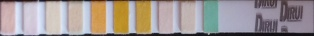color 1: (1, 2, 14, 34)
color 10: (203, 2, 217, 32)
color 2: (23, 3, 37, 34)
color 3: (46, 3, 60, 33)
color 4: (67, 3, 81, 33)
color 5: (92, 3, 105, 33)
color 6: (113, 3, 127, 32)
color 7: (136, 3, 149, 33)
color 8: (159, 3, 172, 32)
color 9: (181, 3, 195, 32)
